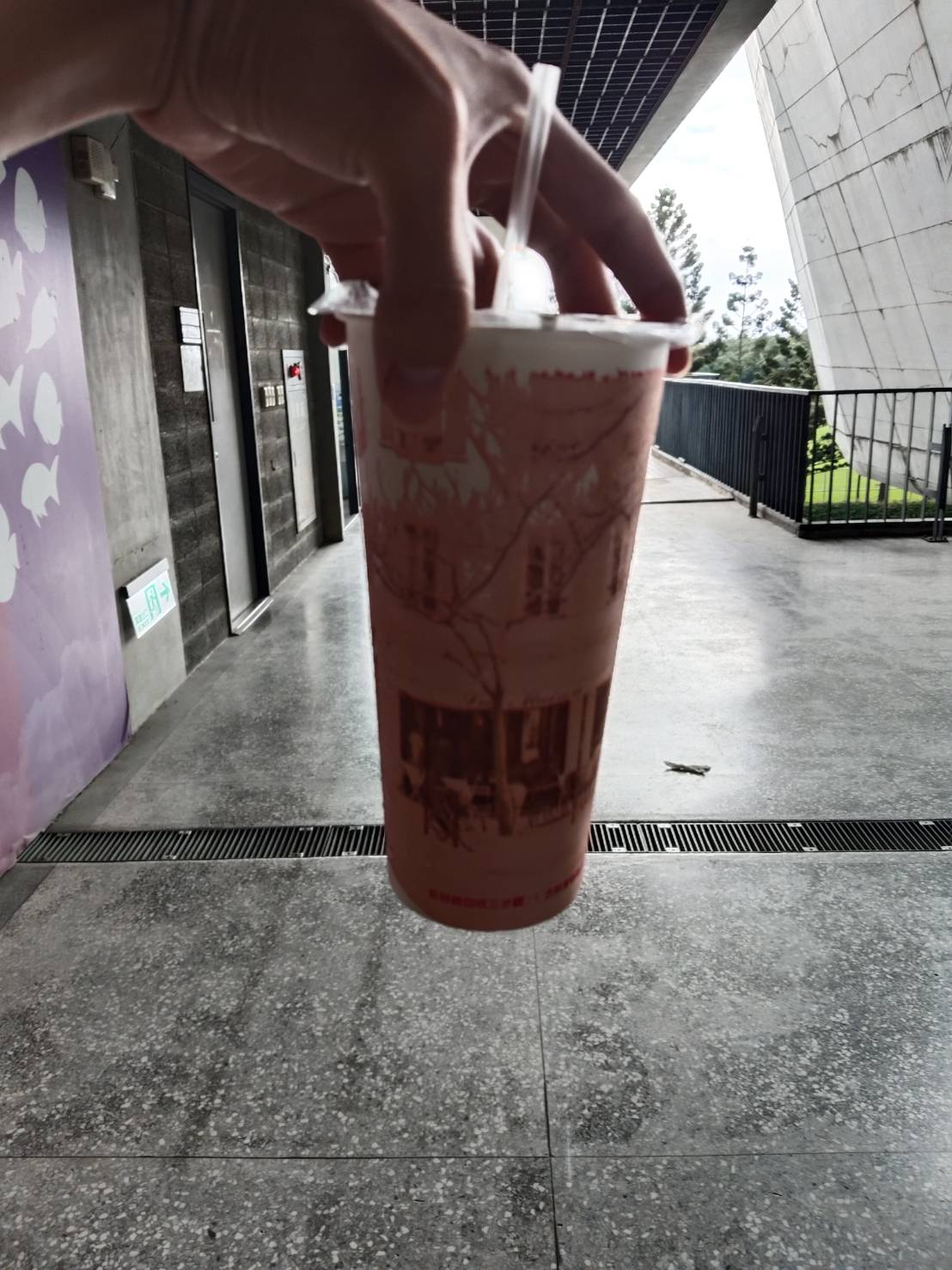paper: (304, 260, 712, 975)
plastic: (462, 42, 580, 317)
